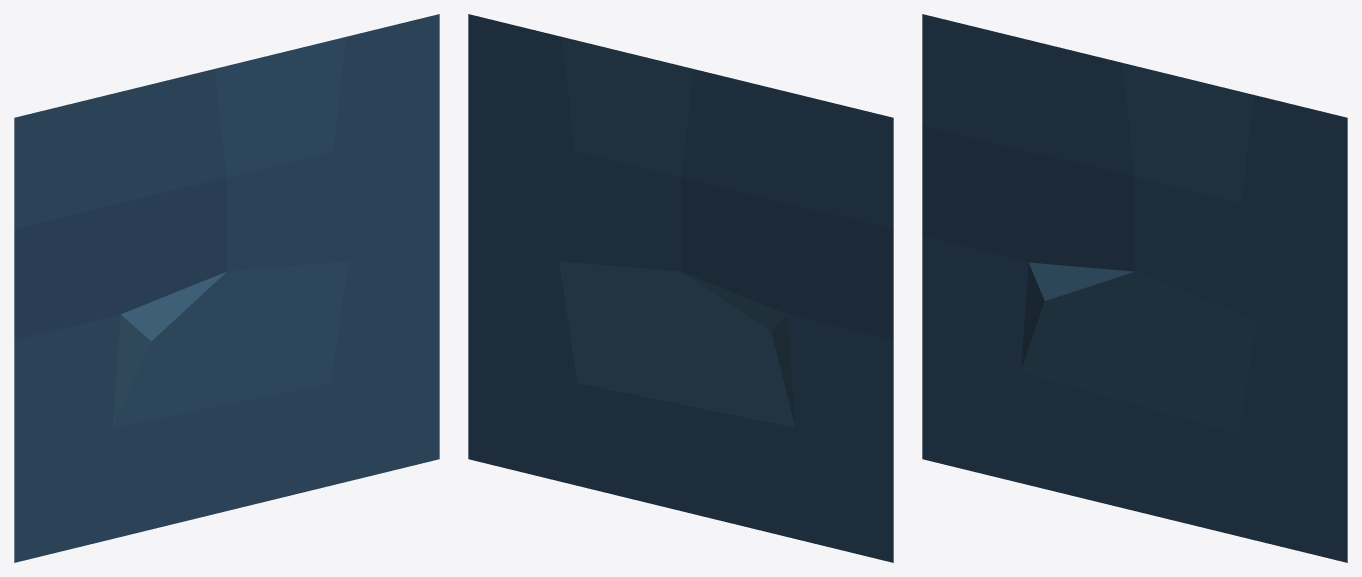
The model's file is wall_2m_front.fbx.
The picture shows the model from 3 angles, left to right: view 1: azimuth 30°, elevation 25°; view 2: azimuth 150°, elevation 25°; view 3: azimuth 330°, elevation 25°; orthographic projection.
Visible parts, largest first — view 1: wall_2m_front; view 2: wall_2m_front; view 3: wall_2m_front.
Boxes of the visible parts, box(x1,y1,x2,y2) form: wall_2m_front: box(14, 14, 439, 562); wall_2m_front: box(468, 14, 893, 562); wall_2m_front: box(922, 14, 1347, 562).
Bounding box in the file's own units: 200 × 200 × 5.88.
